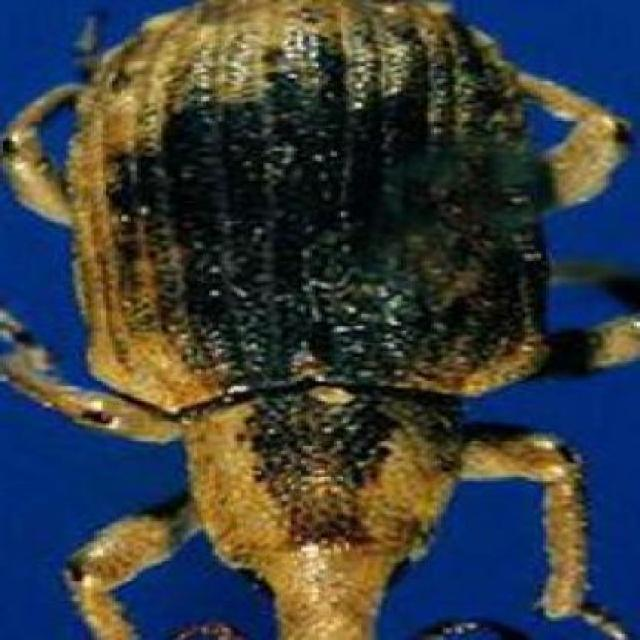rice-bug: (81, 3, 570, 640)
